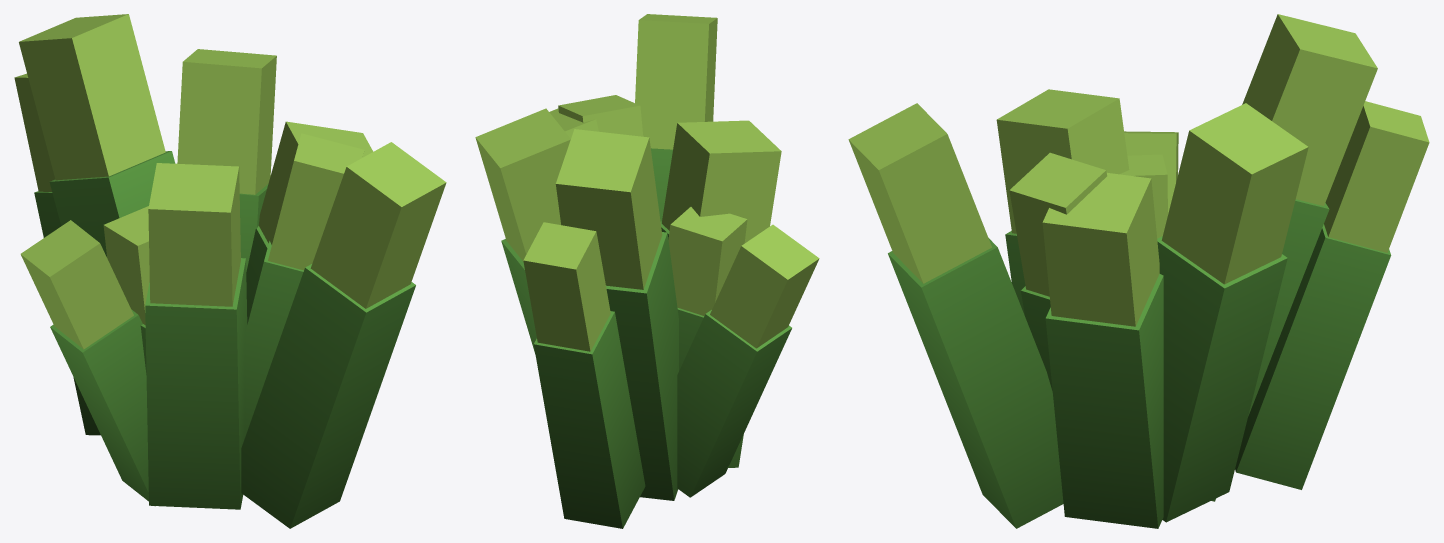
File: B01_grass_short.glb
3 views of the same model, side by side, from view 1: azimuth 30°, elevation 25°; view 2: azimuth 150°, elevation 25°; view 3: azimuth 270°, elevation 25° (orthographic). The views are drawn at different scales.
Parts seen in each view (by area): view 1: B01_grass_short; view 2: B01_grass_short; view 3: B01_grass_short.
Part boxes in pixels (box(x1,y1,x2,y2)): B01_grass_short: box(14, 14, 446, 528); B01_grass_short: box(475, 14, 819, 528); B01_grass_short: box(848, 14, 1429, 528).
Size of the model in its own units: 0.3931 by 0.483 by 0.577.
